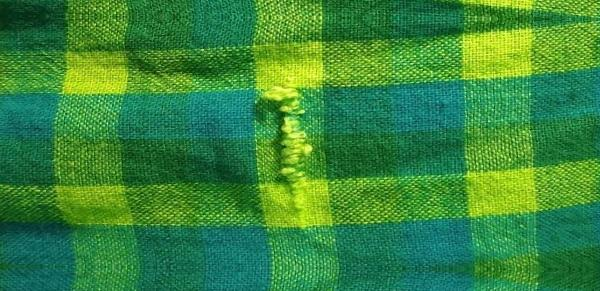knot: (260, 79, 317, 228)
